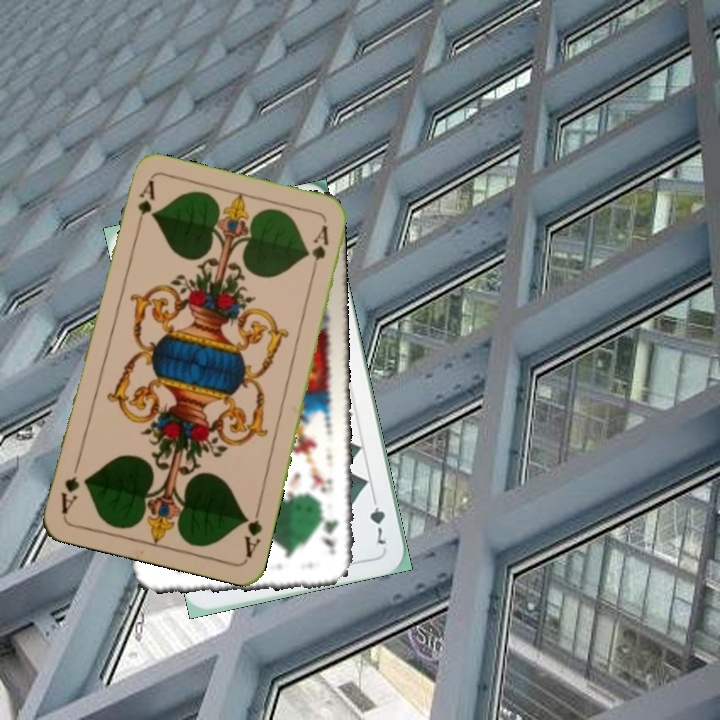G7: (365, 491, 389, 548)
GA: (240, 501, 265, 561), (132, 176, 157, 235)
GK: (318, 503, 341, 559)
